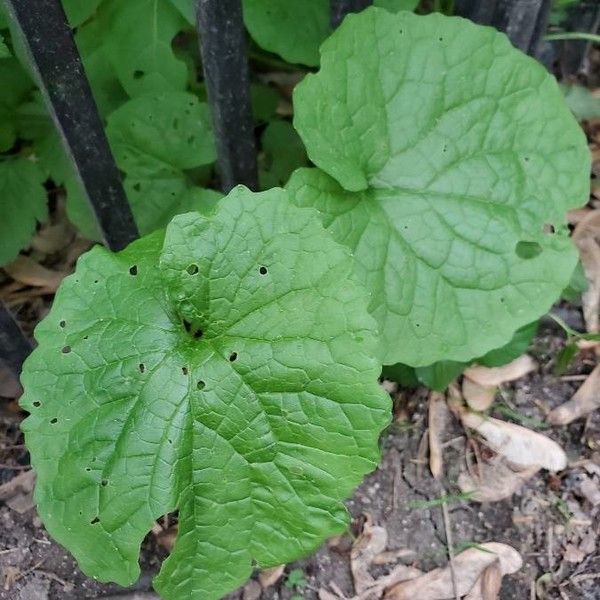obstacle: (51, 17, 562, 578), (40, 190, 394, 575)
